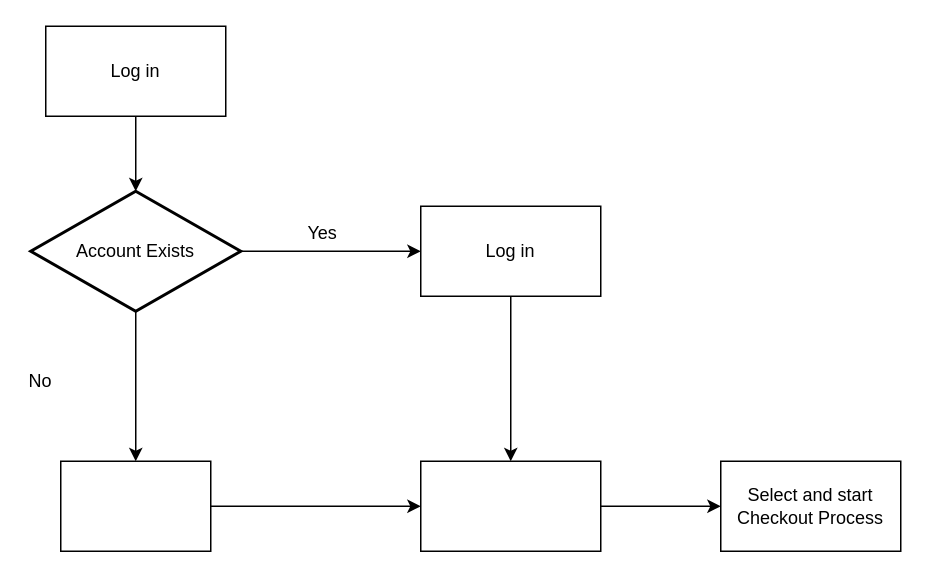
Image size: 927x578. Some labels were removed from this diagram. Here are the shapes that lost their labels. From the top down, the box of each, then its label:
(59, 460, 211, 551): Create Account
(419, 460, 601, 551): Display Available Items for Browsing
